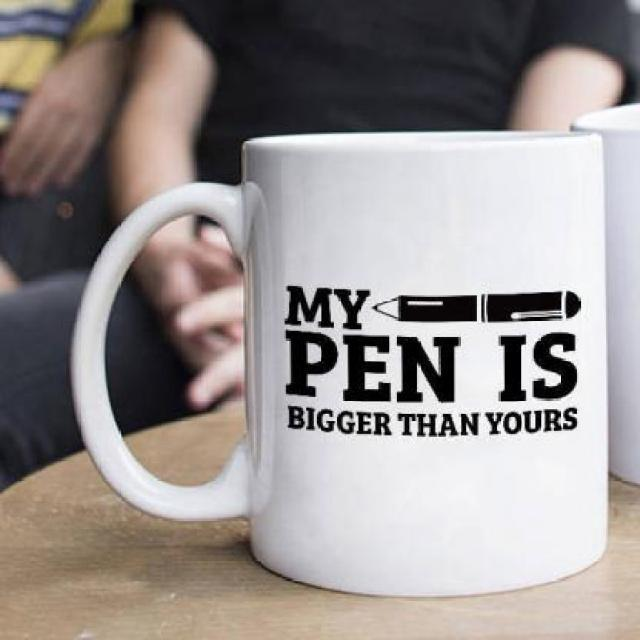taza: (70, 132, 610, 597)
